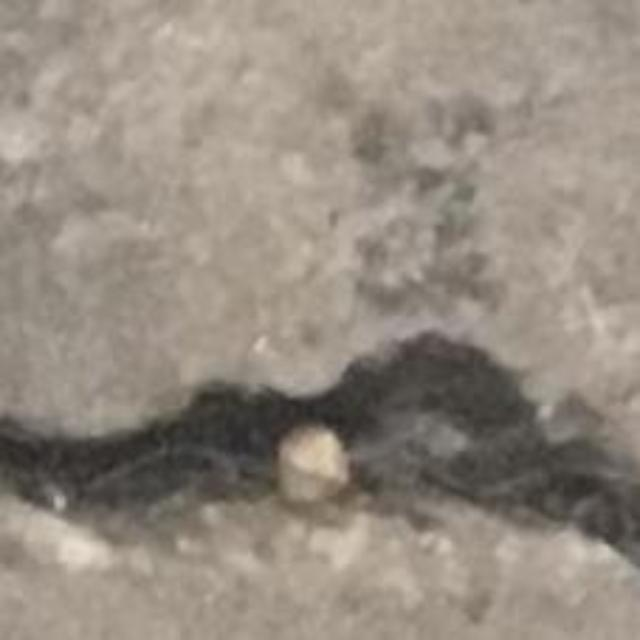crack: (0, 333, 639, 563)
